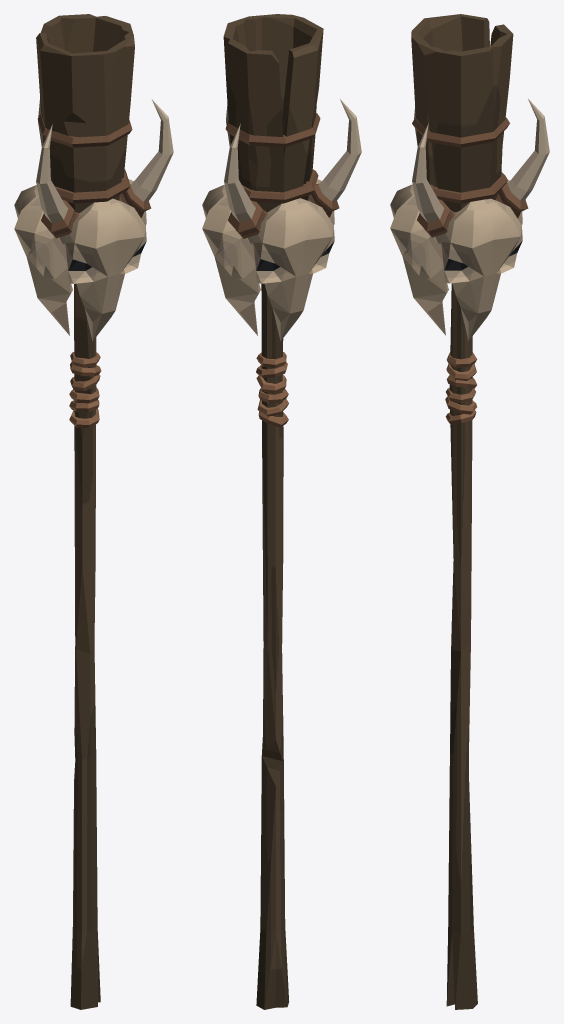
The model's file is SM_Prop_Tiki_Torch_01.fbx.
The picture shows the model from 3 angles, left to right: view 1: azimuth 30°, elevation 25°; view 2: azimuth 150°, elevation 25°; view 3: azimuth 270°, elevation 25°; orthographic projection.
Parts seen in each view (by area): view 1: SM_Prop_Tiki_Torch_01; view 2: SM_Prop_Tiki_Torch_01; view 3: SM_Prop_Tiki_Torch_01.
Boxes of the visible parts, x1,y1,x2,y2 form: SM_Prop_Tiki_Torch_01: [14, 14, 173, 1009]; SM_Prop_Tiki_Torch_01: [202, 14, 361, 1009]; SM_Prop_Tiki_Torch_01: [390, 14, 549, 1009].
Size of the model in its own units: 32.03 by 223 by 33.23.
1 material, 1 textured.
